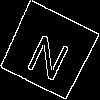N: (24, 25, 77, 83)
